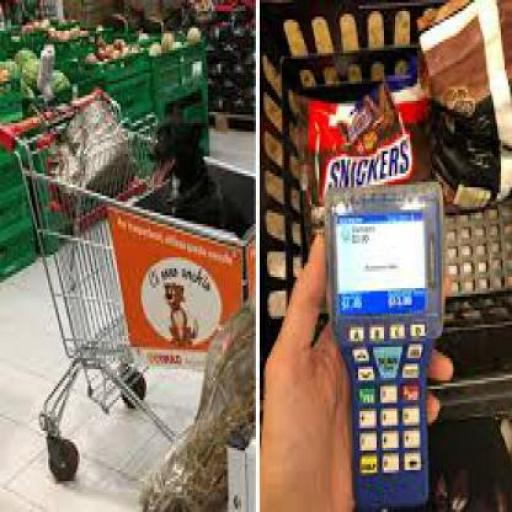shopping_cart: (0, 84, 255, 484)
